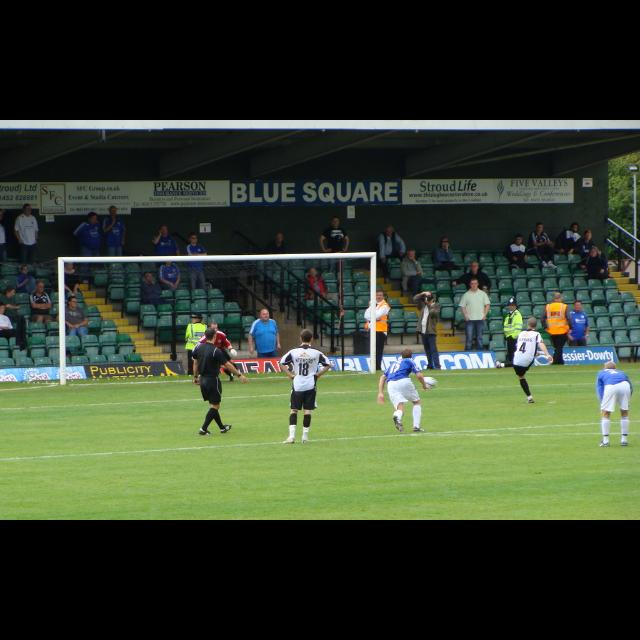Football: (420, 372, 436, 388)
